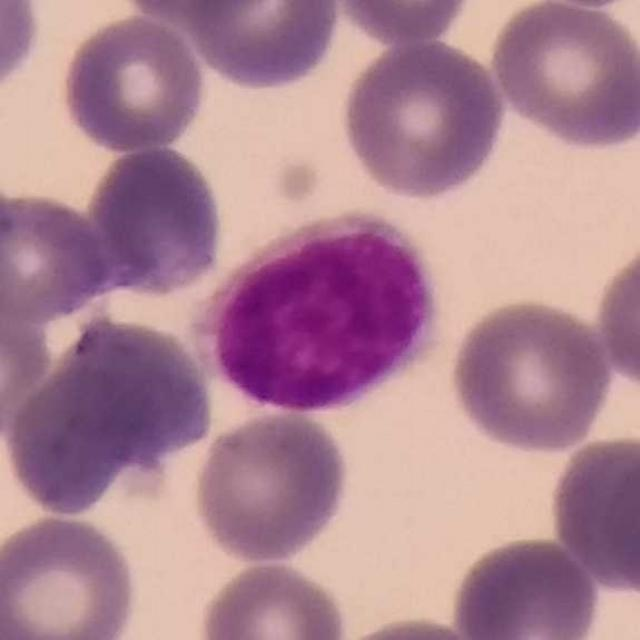Lymphocyte: (200, 207, 448, 422)
RBC: (2, 319, 207, 521), (337, 35, 510, 204), (447, 294, 616, 456), (188, 408, 354, 566), (82, 142, 230, 300), (486, 0, 639, 152), (57, 12, 209, 156), (0, 511, 142, 640), (446, 532, 604, 640), (0, 184, 112, 326), (546, 429, 640, 592), (183, 0, 344, 93), (195, 557, 352, 640), (0, 277, 55, 448), (591, 230, 640, 398), (326, 0, 480, 46), (600, 433, 640, 603), (327, 612, 494, 640), (0, 0, 46, 98), (110, 0, 272, 26)
